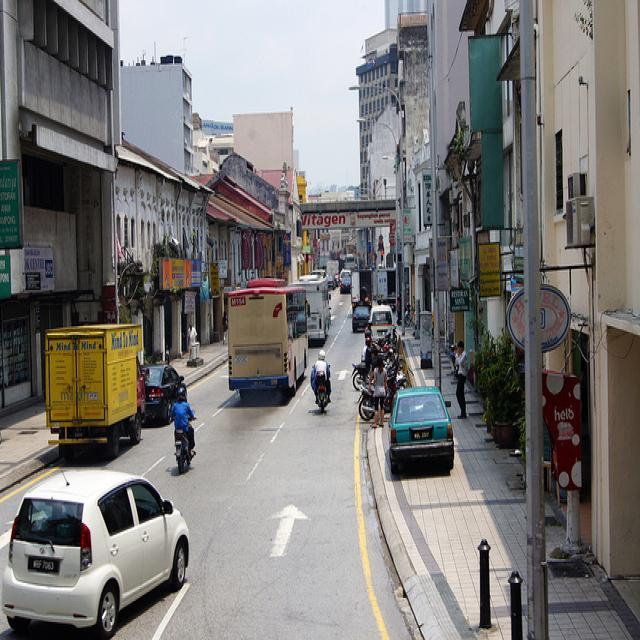motor: (351, 349, 407, 390), (358, 377, 408, 421), (175, 418, 195, 474), (314, 370, 331, 415)
